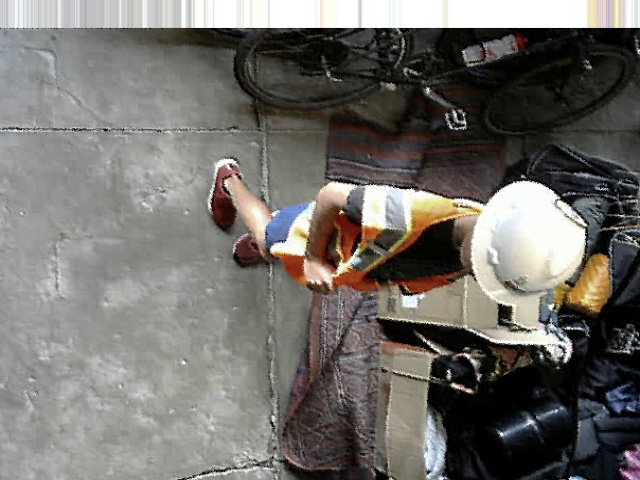one: (556, 198, 587, 225)
